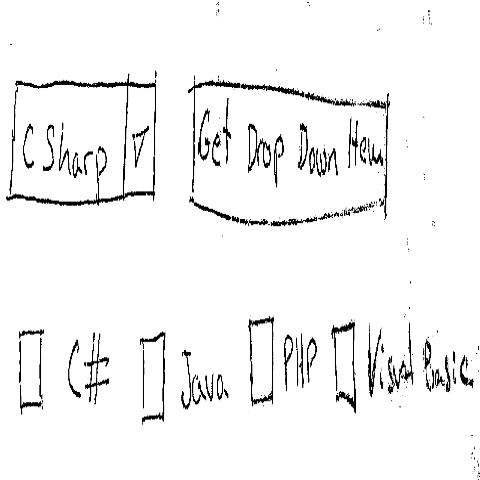Button: (189, 67, 392, 240)
Check Box: (332, 312, 477, 417), (140, 323, 231, 436), (18, 320, 113, 413), (247, 306, 319, 410)
Select: (8, 73, 161, 210)
